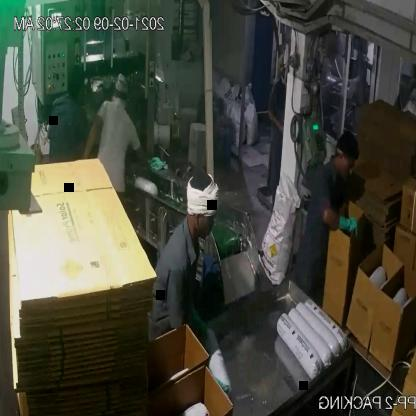glove: (335, 211, 363, 243)
no_glove: (81, 116, 103, 163), (265, 108, 288, 134)
